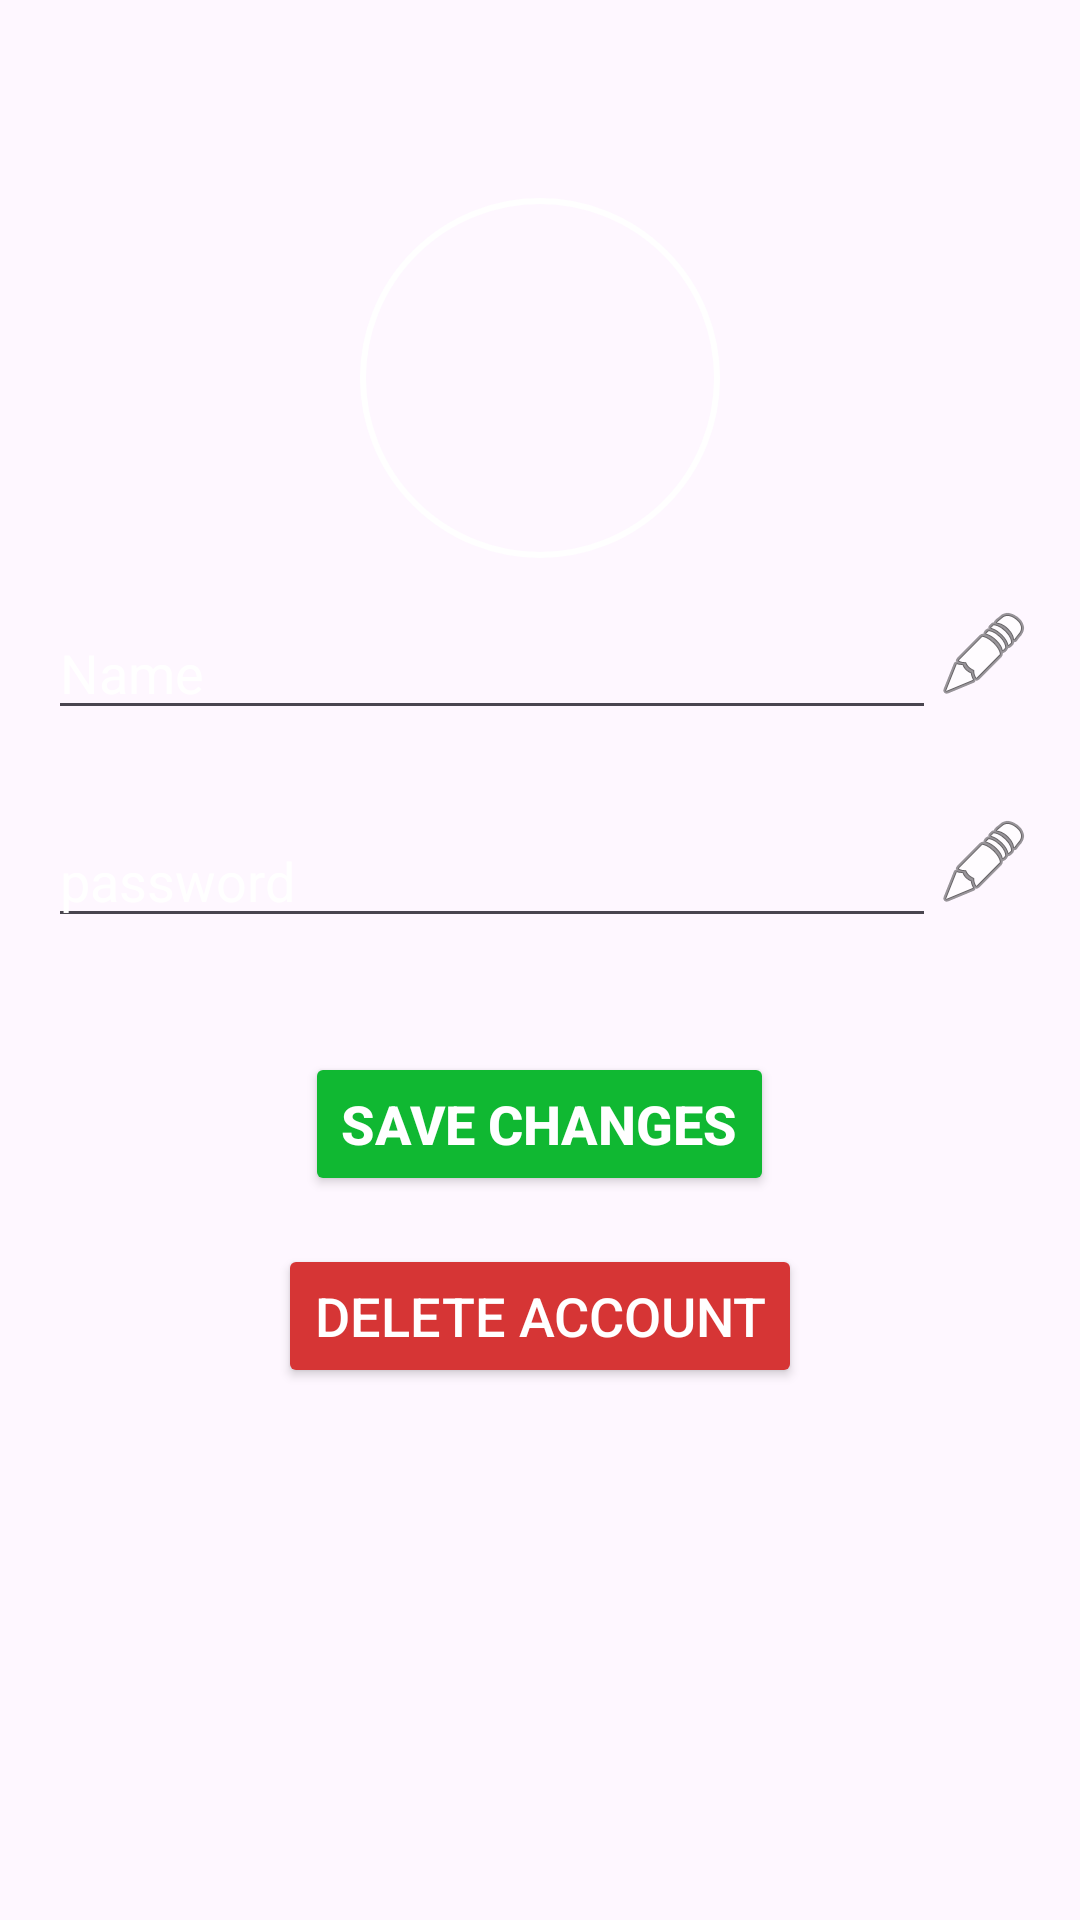

Icons on this 1080*1920 Android screen, each with the point to tap as (x,y):
edit: (983,653), (983,861)
